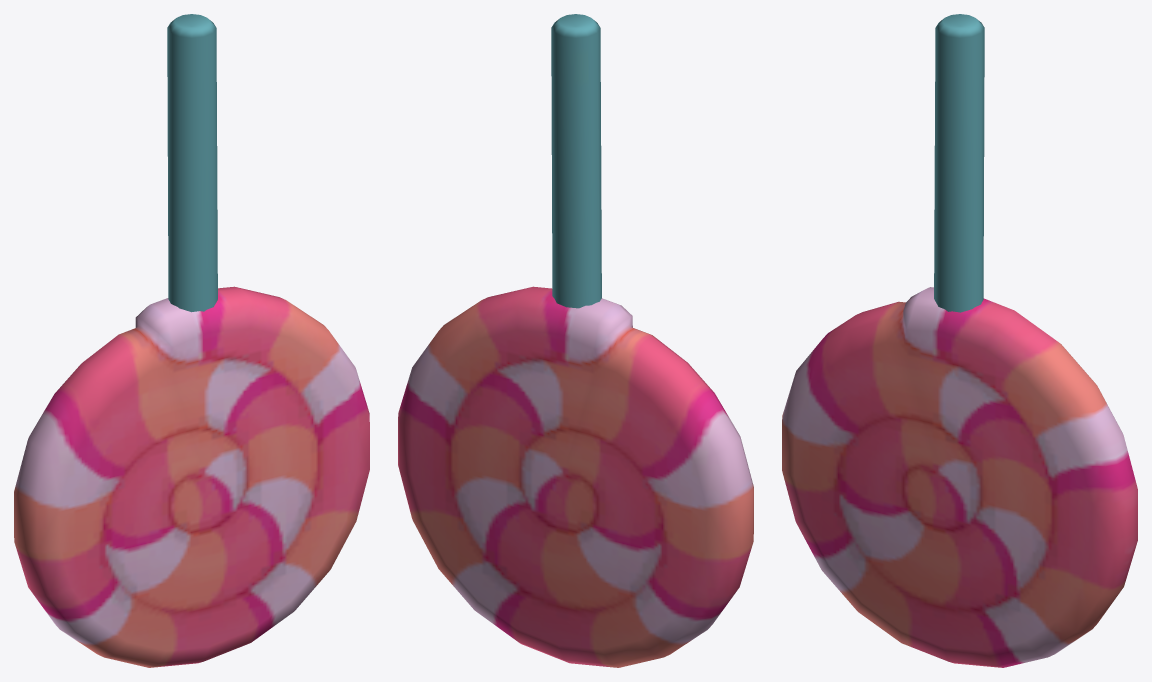
Rendered from ToolLollipop.glb.
3 views of the same model, side by side, from view 1: azimuth 30°, elevation 25°; view 2: azimuth 150°, elevation 25°; view 3: azimuth 330°, elevation 25° (orthographic).
Visible parts, largest first — view 1: candy__mTool; view 2: candy__mTool; view 3: candy__mTool.
Part boxes in pixels (x1,y1,x2,y2): candy__mTool: [14, 14, 369, 667]; candy__mTool: [398, 14, 753, 667]; candy__mTool: [782, 14, 1137, 667].
Size of the model in its own units: 2.44 by 4.31 by 0.4234.
1 material, 1 textured.
